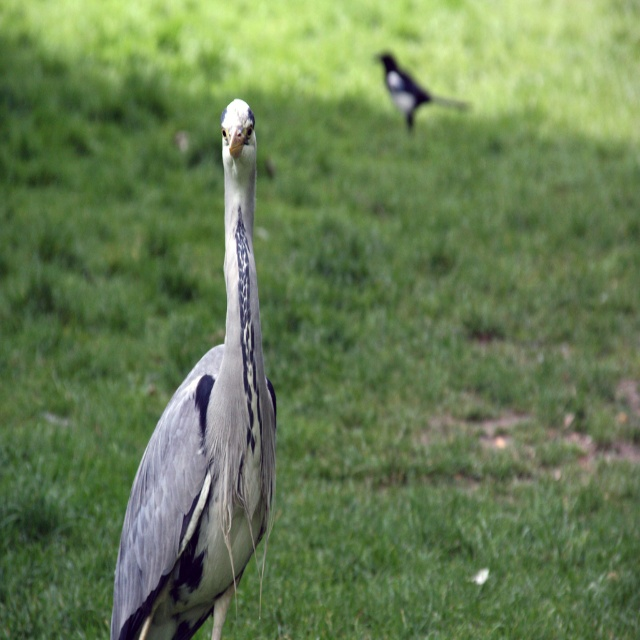Magpie: (370, 49, 472, 137)
